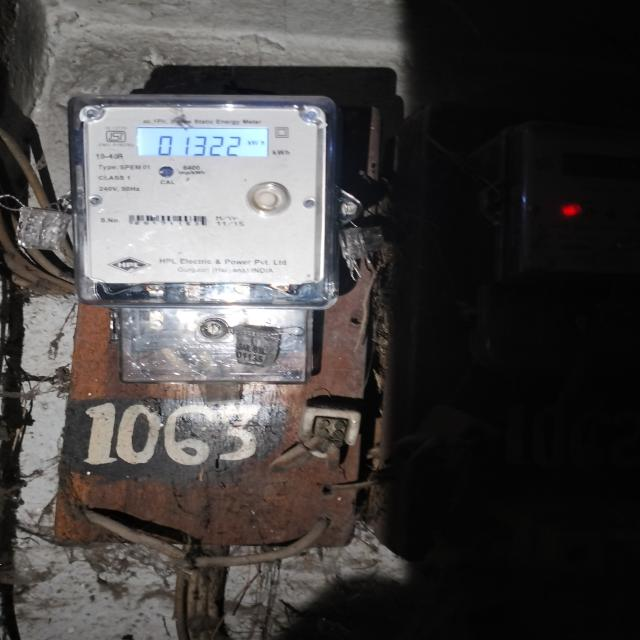display: (135, 125, 273, 159)
